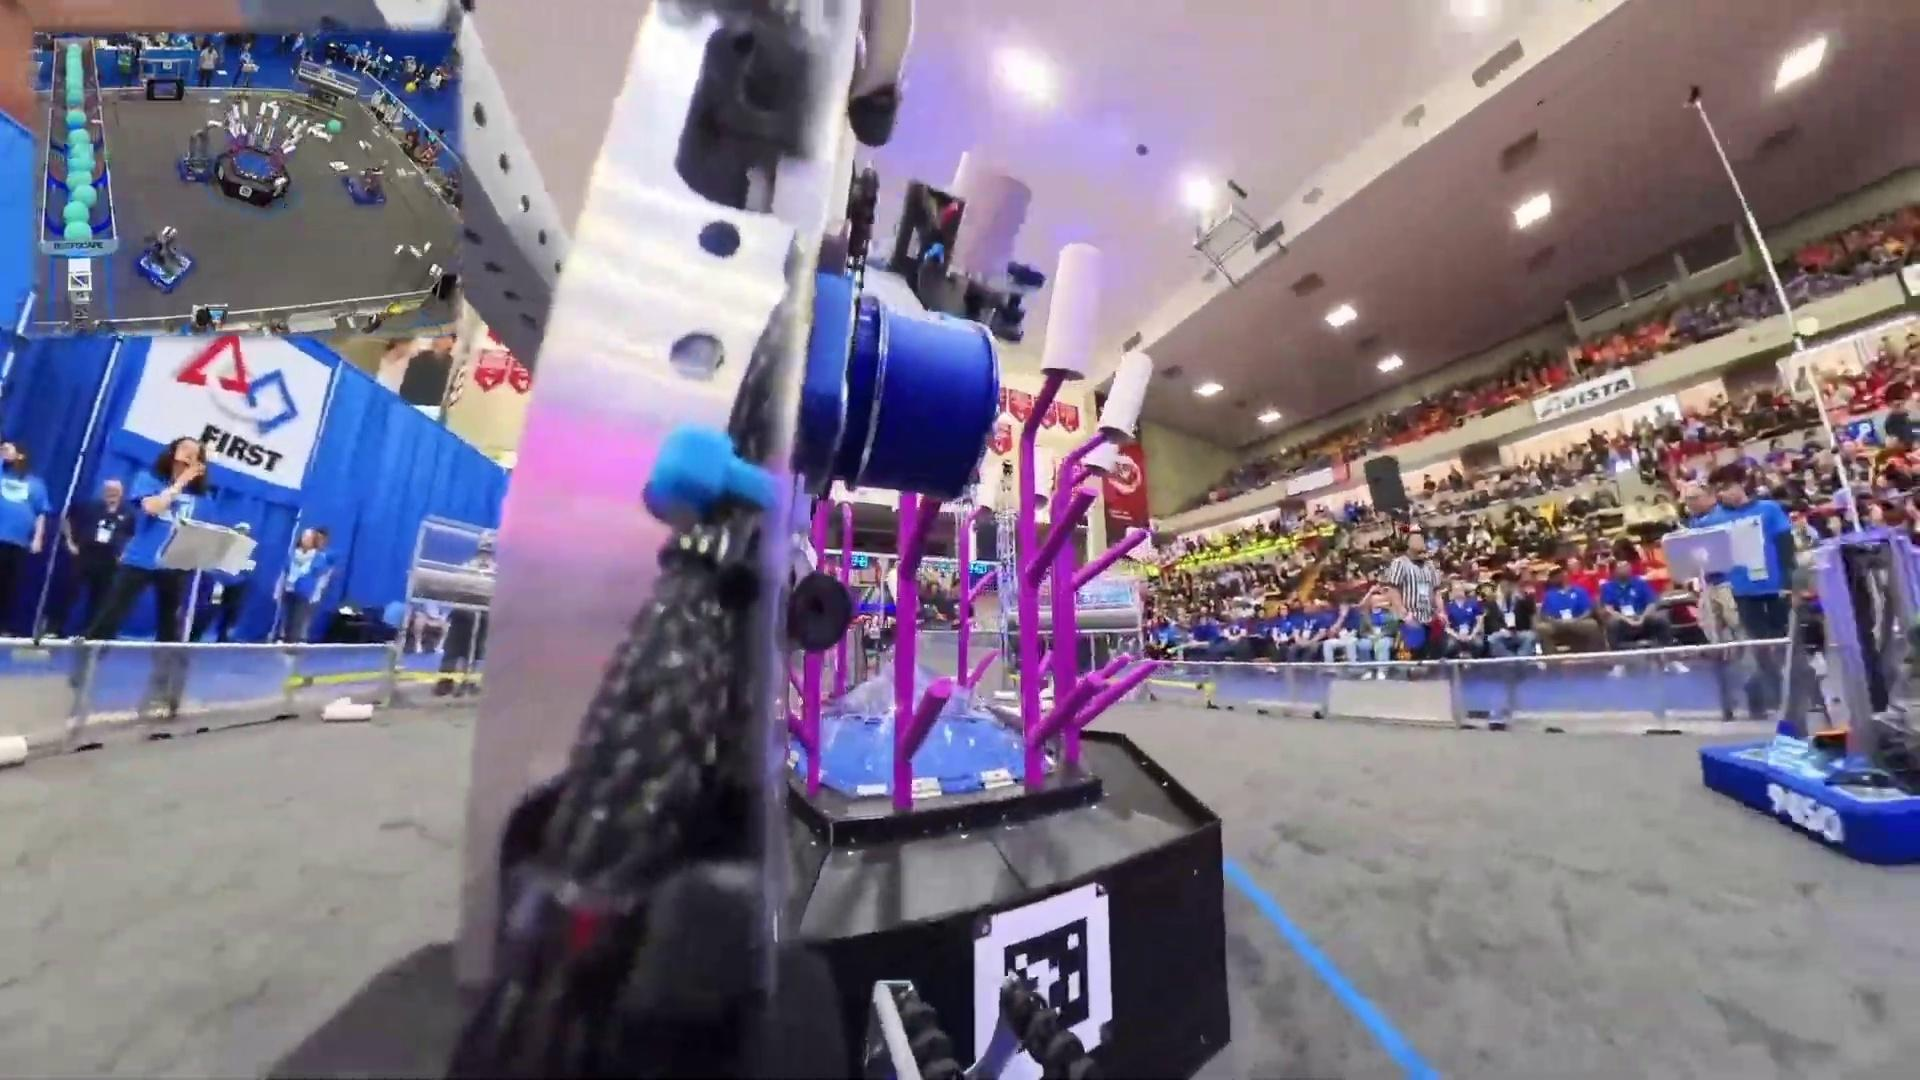robot: (1701, 520, 1920, 874), (129, 222, 195, 298), (339, 152, 393, 211), (175, 116, 218, 186)
